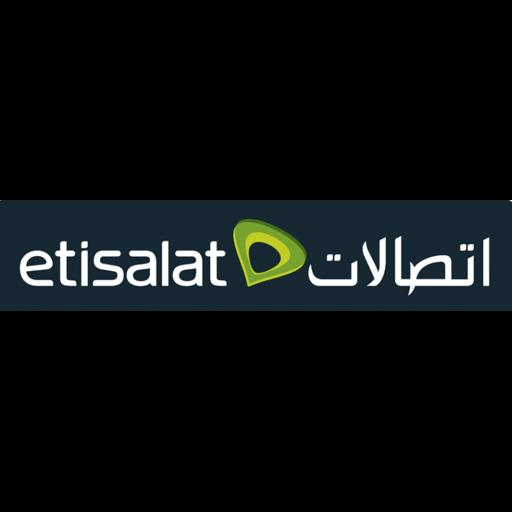Etisalat: (0, 200, 512, 311)
